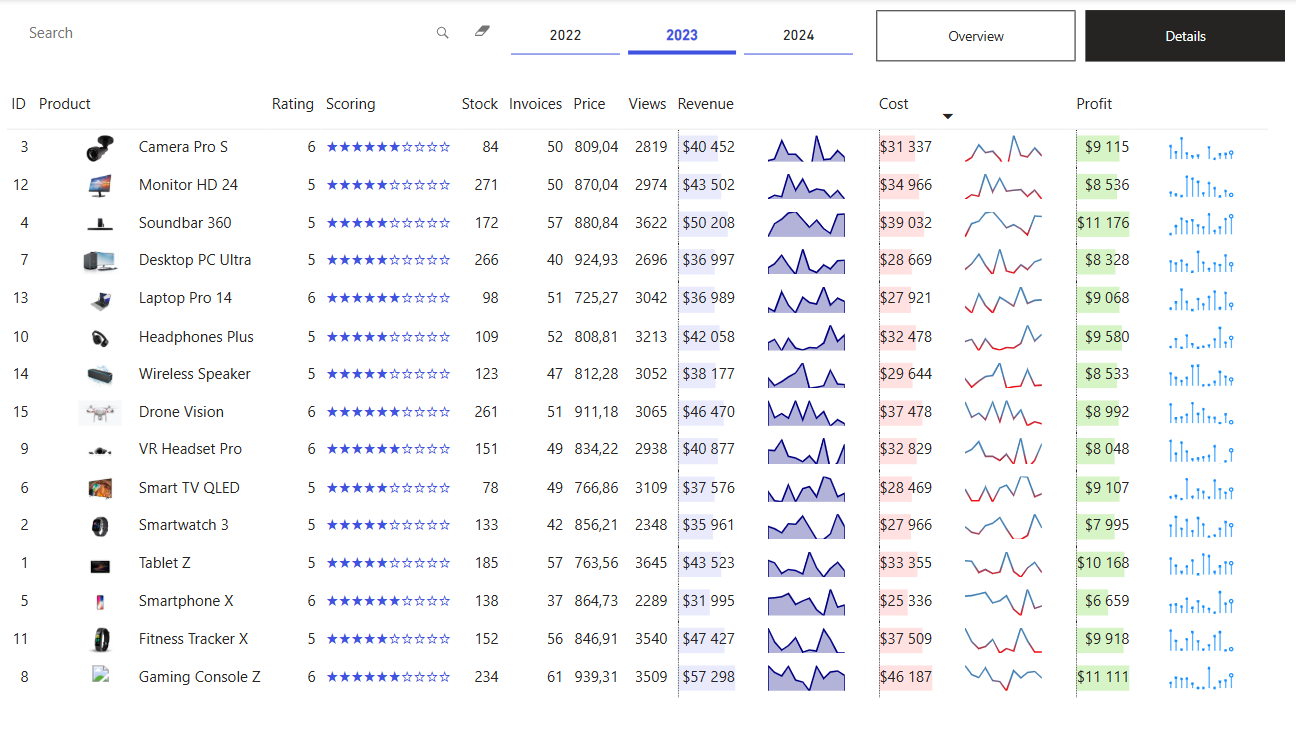

What the dashboard file says about the page in this screenshot:
{"tool":"powerbi","page":{"name":"Details","canvas":[1280,720],"ordinal":1},"visuals":[{"type":"tableEx","fields":{"Values":["dimProduct.Product ID","dimProduct.Img","dimProduct.Product","All Measures.Avg Score","All Measures.Scoring","dimProduct.Quantity","All Measures.No of Invoices","Avg(factSalesData.Sales Amount (USD))","Sum(factSalesData.Views)","All Measures.Revenue","All Measures.Revenue Sparkline","All Measures.Cost"]},"box":[0,81.1,1280.2,638.9],"z":0},{"type":"advancedSlicerVisual","fields":{"Values":["Calendar.Year"]},"box":[495.8,8.4,345,51.9],"z":1000},{"type":"pageNavigator","box":[857.6,11.1,400.5,50.4],"z":2000},{"type":"textFilter25A4896A83E0487089E2B90C9AE57C8A","fields":{"field":["dimProduct.Product"]},"box":[13.5,8.6,482.9,52.8],"z":3000}]}

Visuals, with their boxes in screenshot pixels (x1, y1, x2, y2), scaled from the page's 1280x720 canvas onto the 1296x732 screenshot:
tableEx - dimProduct.Product ID x dimProduct.Img: 0/82/1295/731
advancedSlicerVisual - Calendar.Year: 502/9/851/61
pageNavigator: 868/11/1274/63
textFilter25A4896A83E0487089E2B90C9AE57C8A - dimProduct.Product: 14/9/503/62
